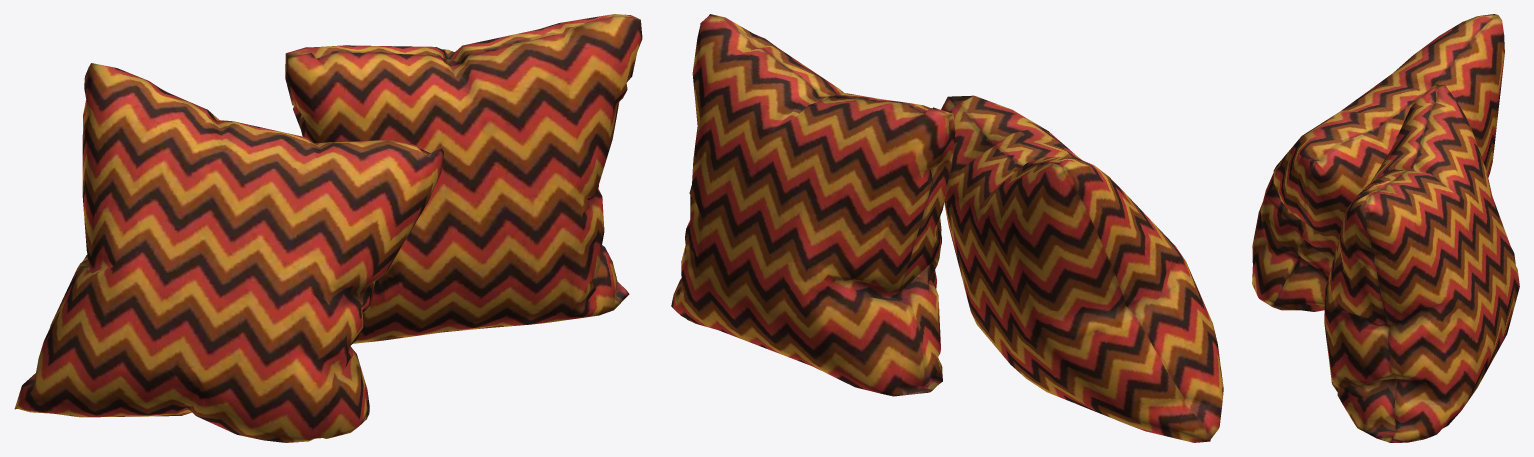
The model's file is throw_pillows_01.glb.
The picture shows the model from 3 angles, left to right: view 1: azimuth 30°, elevation 25°; view 2: azimuth 150°, elevation 25°; view 3: azimuth 270°, elevation 25°; orthographic projection. The views are drawn at different scales.
Visible parts, largest first — view 1: throw_pillows_01_pillow02; view 2: throw_pillows_01_pillow02; view 3: throw_pillows_01_pillow02.
Part boxes in pixels (x1,y1,x2,y2): throw_pillows_01_pillow02: [14, 14, 642, 442]; throw_pillows_01_pillow02: [671, 14, 1223, 442]; throw_pillows_01_pillow02: [1252, 14, 1519, 442].
Bounding box in the file's own units: 0.9365 × 0.4499 × 0.4502.
1 material, 1 textured.
